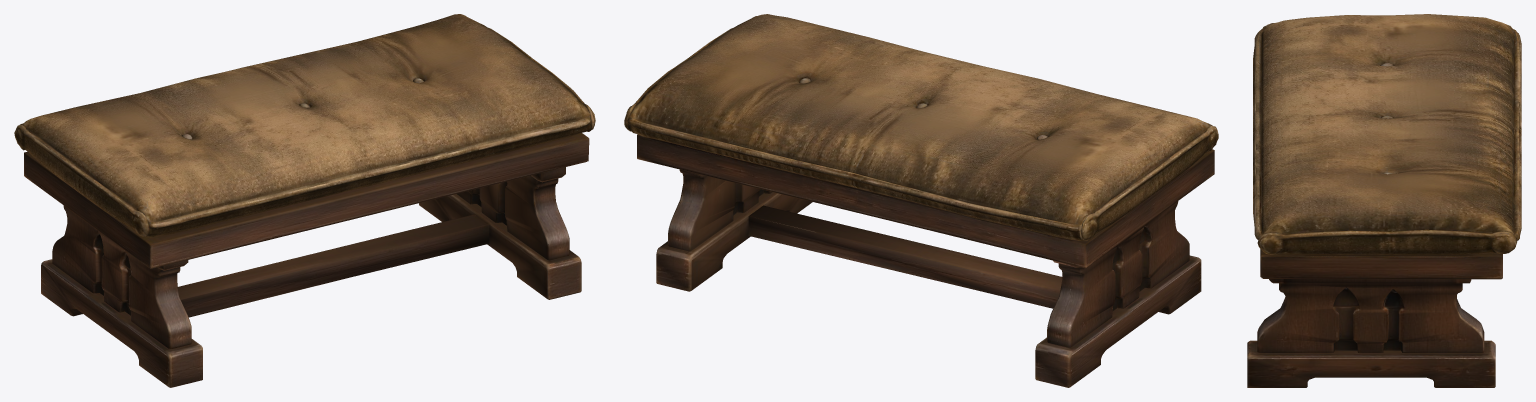
The model's file is furniture-kneeling-bench.glb.
3 views of the same model, side by side, from view 1: azimuth 30°, elevation 25°; view 2: azimuth 150°, elevation 25°; view 3: azimuth 270°, elevation 25° (orthographic). The views are drawn at different scales.
Visible parts, largest first — view 1: tripo_node_d71a0cdb-525d-4e94-ad7a-bbf7b5ff2cbf; view 2: tripo_node_d71a0cdb-525d-4e94-ad7a-bbf7b5ff2cbf; view 3: tripo_node_d71a0cdb-525d-4e94-ad7a-bbf7b5ff2cbf.
Boxes of the visible parts, bbox=[...] form: tripo_node_d71a0cdb-525d-4e94-ad7a-bbf7b5ff2cbf: bbox=[14, 14, 595, 387]; tripo_node_d71a0cdb-525d-4e94-ad7a-bbf7b5ff2cbf: bbox=[624, 14, 1218, 387]; tripo_node_d71a0cdb-525d-4e94-ad7a-bbf7b5ff2cbf: bbox=[1247, 14, 1521, 387].
Size of the model in its own units: 1.2 by 0.48 by 0.65.
1 material, 1 textured.
